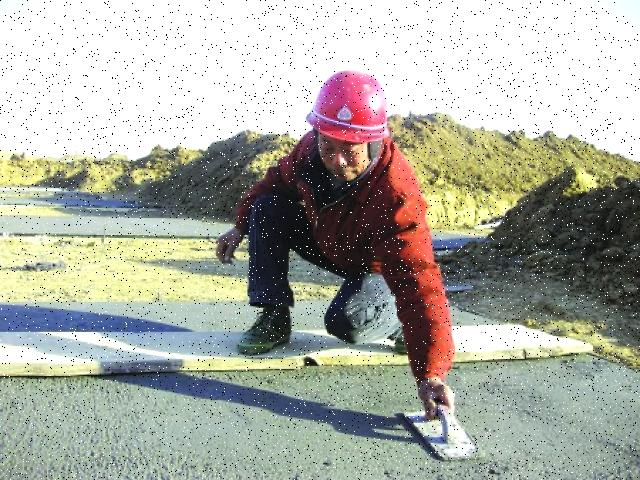Helmet: (304, 64, 394, 147)
